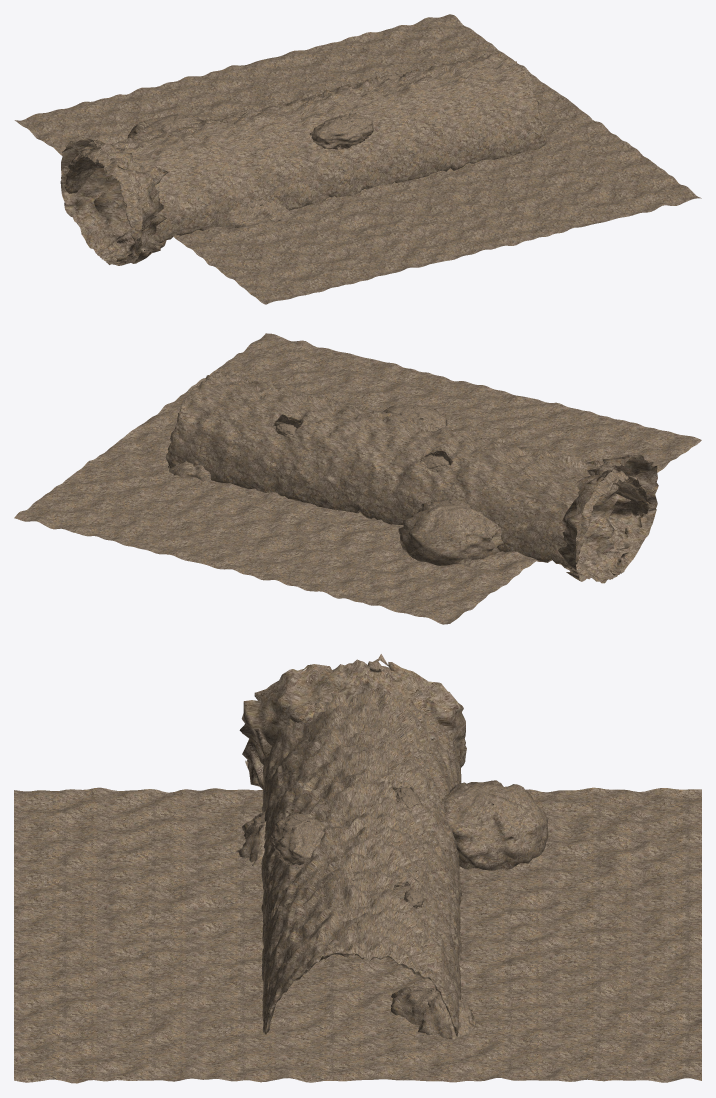
The model's file is WheelCartFbx.FBX.
The picture shows the model from 3 angles, top to bottom: view 1: azimuth 30°, elevation 25°; view 2: azimuth 150°, elevation 25°; view 3: azimuth 270°, elevation 25°; orthographic projection. The views are drawn at different scales.
Parts seen in each view (by area): view 1: Plane001, Cylinder001, Sphere001, Sphere005, Sphere004, Sphere002; view 2: Plane001, Cylinder001, Sphere001, Sphere002, Sphere005, Sphere003; view 3: Plane001, Cylinder001, Sphere001, Sphere002, Sphere003, Sphere005, Sphere004.
Part boxes in pixels (x1,y1,x2,y2): Plane001: (14,14,701,304); Cylinder001: (64,52,546,246); Sphere001: (60,138,168,265); Sphere005: (310,113,373,149); Sphere004: (221,198,291,229); Sphere002: (127,114,203,139); Plane001: (14,333,701,624); Cylinder001: (166,371,649,569); Sphere001: (558,454,658,583); Sphere002: (398,499,503,566); Sphere005: (383,404,447,428); Sphere003: (168,461,211,481); Plane001: (14,787,701,1083); Cylinder001: (261,688,461,1036); Sphere001: (239,654,466,790); Sphere002: (441,780,548,870); Sphere003: (391,985,477,1039); Sphere005: (271,813,324,865); Sphere004: (236,811,266,866).
Size of the model in its own units: 1734 by 399 by 1575.
4 materials, 1 textured.
